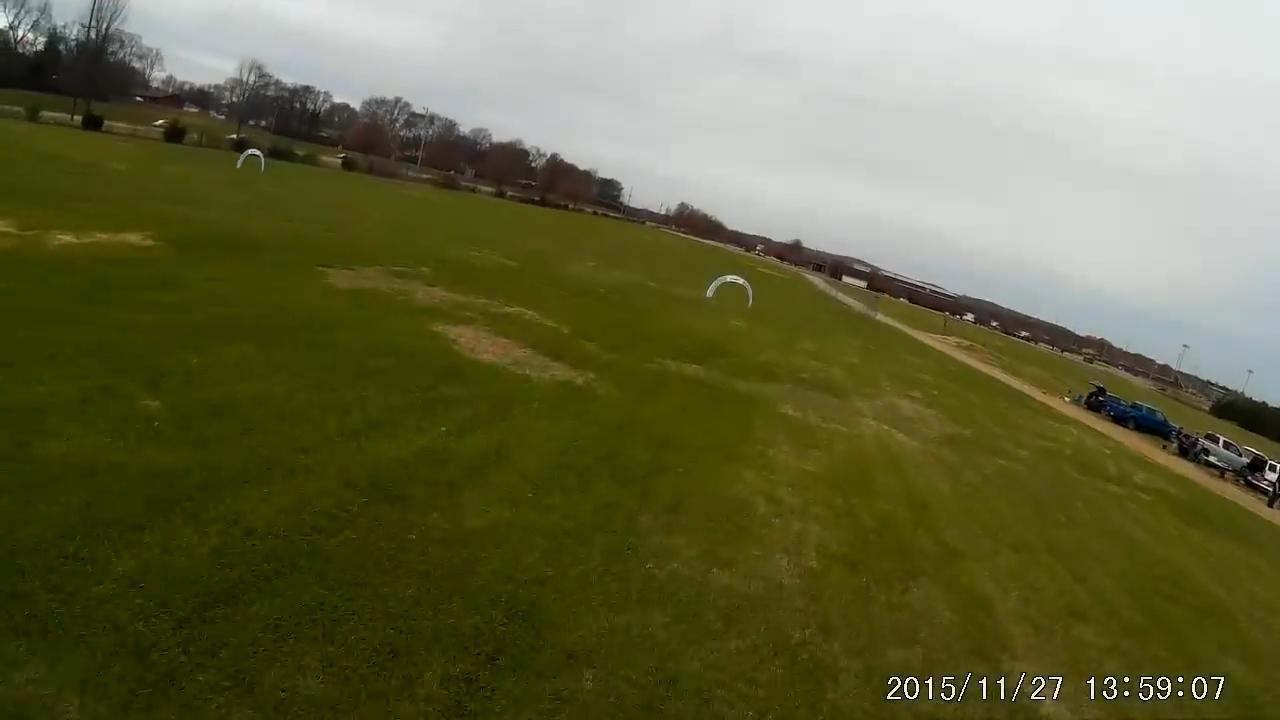gate: (704, 271, 755, 310)
